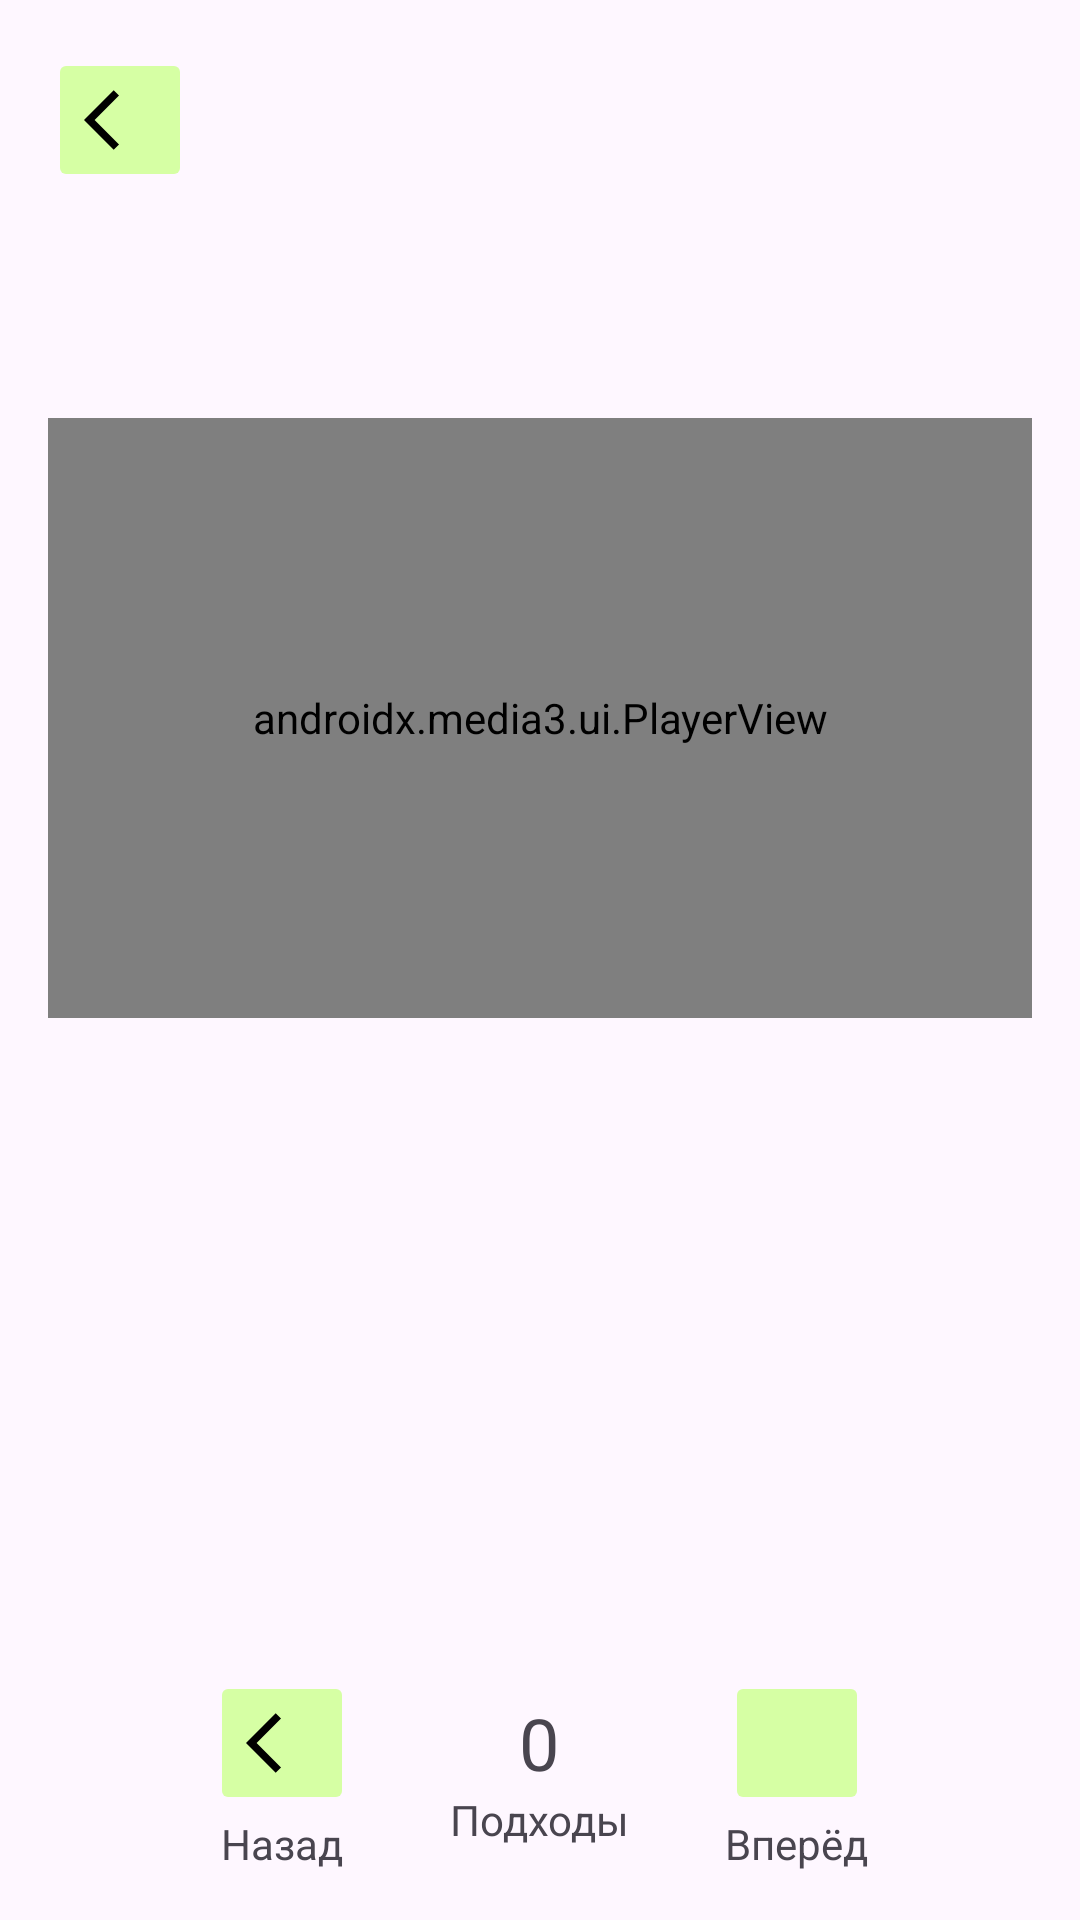

Icons on this 1080px x 1920px Android screen, each with its box as {"left": x1, "top": y1, "right": x2, "bottom": y2}:
arrow left: {"left": 60, "top": 66, "right": 180, "bottom": 174}, {"left": 222, "top": 1689, "right": 342, "bottom": 1797}
